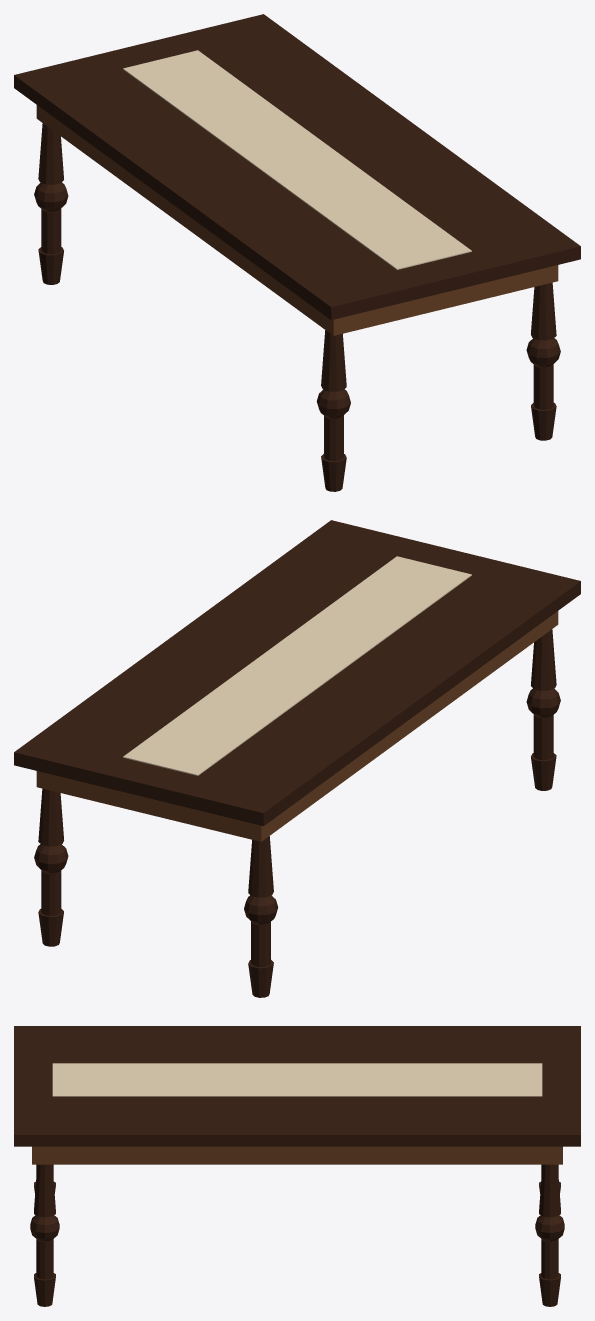
Rendered from mesa_jantar.obj.
The picture shows the model from 3 angles, top to bottom: view 1: azimuth 30°, elevation 25°; view 2: azimuth 150°, elevation 25°; view 3: azimuth 270°, elevation 25°; orthographic projection. The views are drawn at different scales.
Visible parts, largest first — view 1: parte_00_madeira_escura, parte_02_tecido_creme, parte_01_madeira, parte_10_madeira_escura, parte_18_madeira_escura, parte_06_madeira_escura, parte_16_madeira_escura, parte_04_madeira_escura, parte_08_madeira_escura, parte_05_madeira_escura, parte_17_madeira_escura, parte_09_madeira_escura (+3 smaller); view 2: parte_00_madeira_escura, parte_02_tecido_creme, parte_01_madeira, parte_06_madeira_escura, parte_14_madeira_escura, parte_10_madeira_escura, parte_12_madeira_escura, parte_08_madeira_escura, parte_04_madeira_escura, parte_09_madeira_escura, parte_13_madeira_escura, parte_05_madeira_escura (+3 smaller); view 3: parte_00_madeira_escura, parte_02_tecido_creme, parte_01_madeira, parte_14_madeira_escura, parte_18_madeira_escura, parte_12_madeira_escura, parte_16_madeira_escura, parte_13_madeira_escura, parte_17_madeira_escura, parte_11_madeira_escura, parte_15_madeira_escura.
Part boxes in pixels (bbox=[...]): parte_00_madeira_escura: bbox=[14, 14, 580, 320]; parte_02_tecido_creme: bbox=[123, 50, 471, 269]; parte_01_madeira: bbox=[36, 105, 558, 335]; parte_10_madeira_escura: bbox=[321, 330, 346, 391]; parte_18_madeira_escura: bbox=[531, 282, 556, 340]; parte_06_madeira_escura: bbox=[38, 123, 63, 184]; parte_16_madeira_escura: bbox=[533, 364, 553, 409]; parte_04_madeira_escura: bbox=[41, 208, 61, 254]; parte_08_madeira_escura: bbox=[324, 415, 343, 460]; parte_05_madeira_escura: bbox=[34, 182, 68, 211]; parte_17_madeira_escura: bbox=[526, 338, 560, 367]; parte_09_madeira_escura: bbox=[316, 389, 350, 418]; parte_00_madeira_escura: bbox=[14, 520, 580, 826]; parte_02_tecido_creme: bbox=[123, 556, 471, 775]; parte_01_madeira: bbox=[36, 611, 558, 841]; parte_06_madeira_escura: bbox=[248, 836, 273, 897]; parte_14_madeira_escura: bbox=[38, 788, 63, 846]; parte_10_madeira_escura: bbox=[531, 629, 556, 690]; parte_12_madeira_escura: bbox=[41, 870, 61, 915]; parte_08_madeira_escura: bbox=[533, 714, 553, 760]; parte_04_madeira_escura: bbox=[251, 921, 270, 966]; parte_09_madeira_escura: bbox=[526, 688, 560, 717]; parte_13_madeira_escura: bbox=[34, 844, 68, 873]; parte_05_madeira_escura: bbox=[244, 895, 278, 924]; parte_00_madeira_escura: bbox=[14, 1026, 580, 1146]; parte_02_tecido_creme: bbox=[52, 1063, 542, 1096]; parte_01_madeira: bbox=[32, 1146, 562, 1164]; parte_14_madeira_escura: bbox=[539, 1164, 560, 1217]; parte_18_madeira_escura: bbox=[34, 1164, 55, 1217]; parte_12_madeira_escura: bbox=[541, 1239, 558, 1279]; parte_16_madeira_escura: bbox=[36, 1239, 53, 1279]; parte_13_madeira_escura: bbox=[535, 1215, 564, 1241]; parte_17_madeira_escura: bbox=[30, 1215, 59, 1241]; parte_11_madeira_escura: bbox=[539, 1273, 560, 1306]; parte_15_madeira_escura: bbox=[34, 1273, 55, 1306].
Size of the model in its own units: 1 by 0.764 by 2.2.
